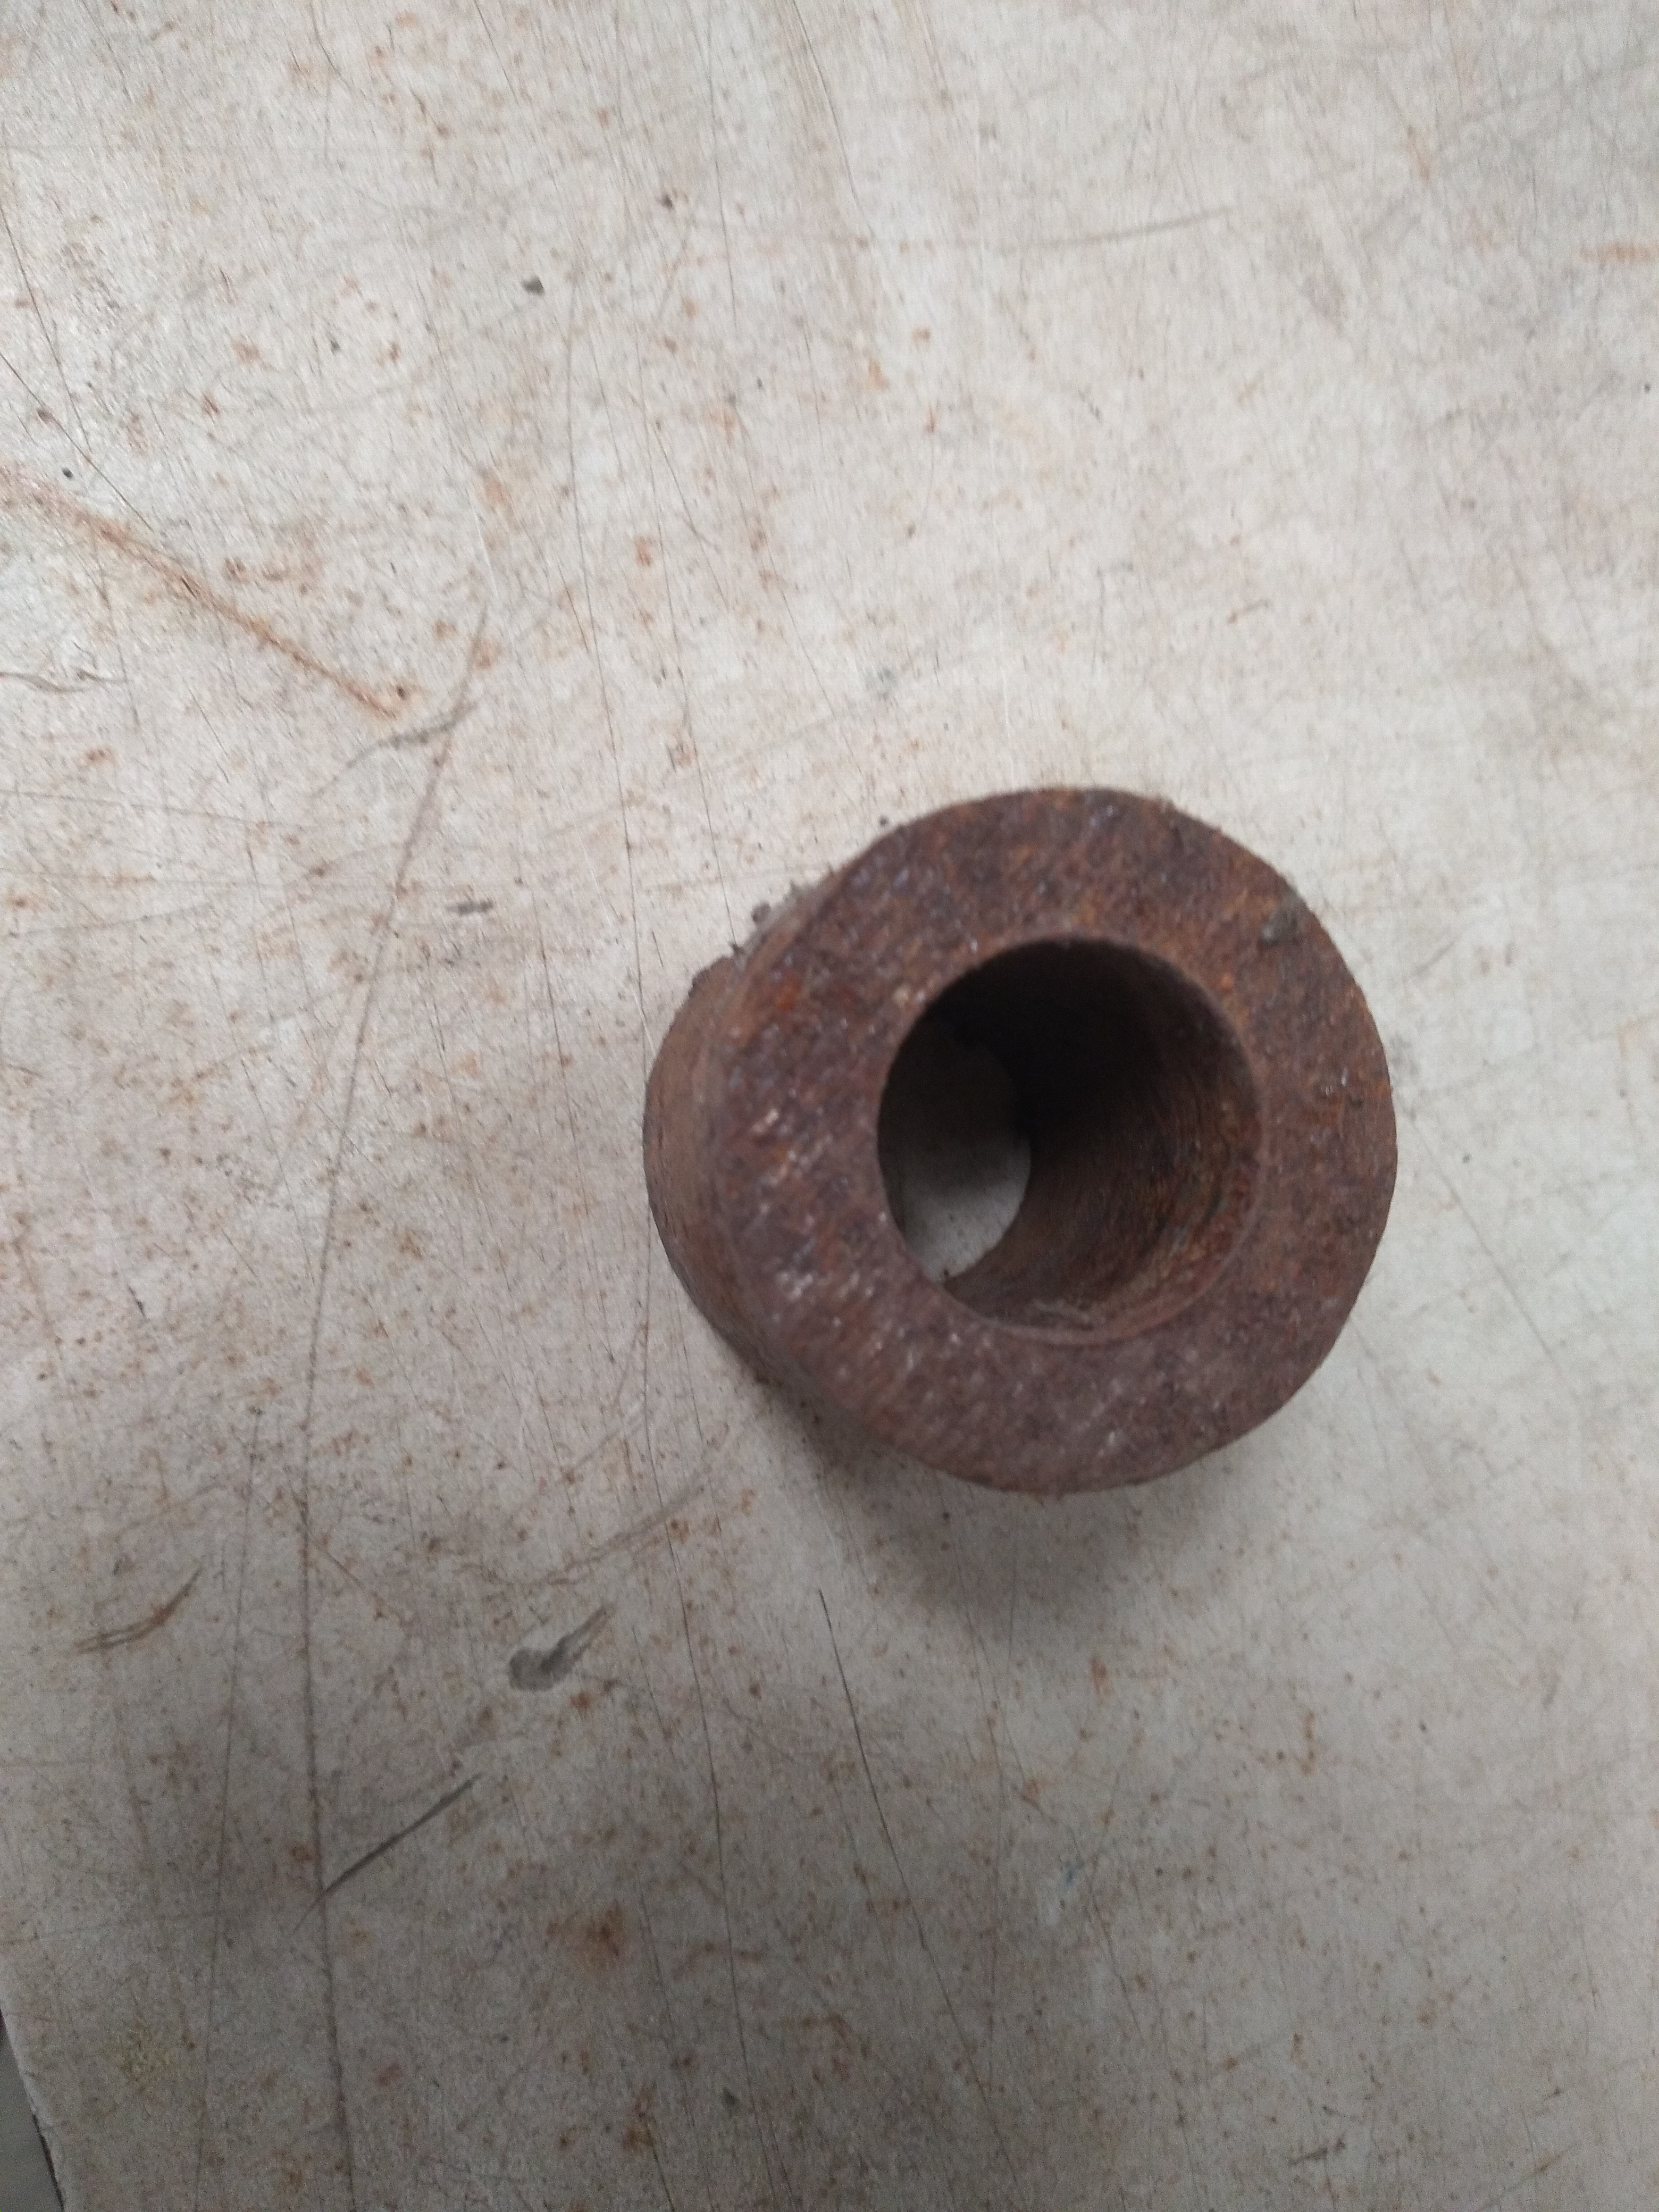No thread: (821, 888, 1333, 1369)
